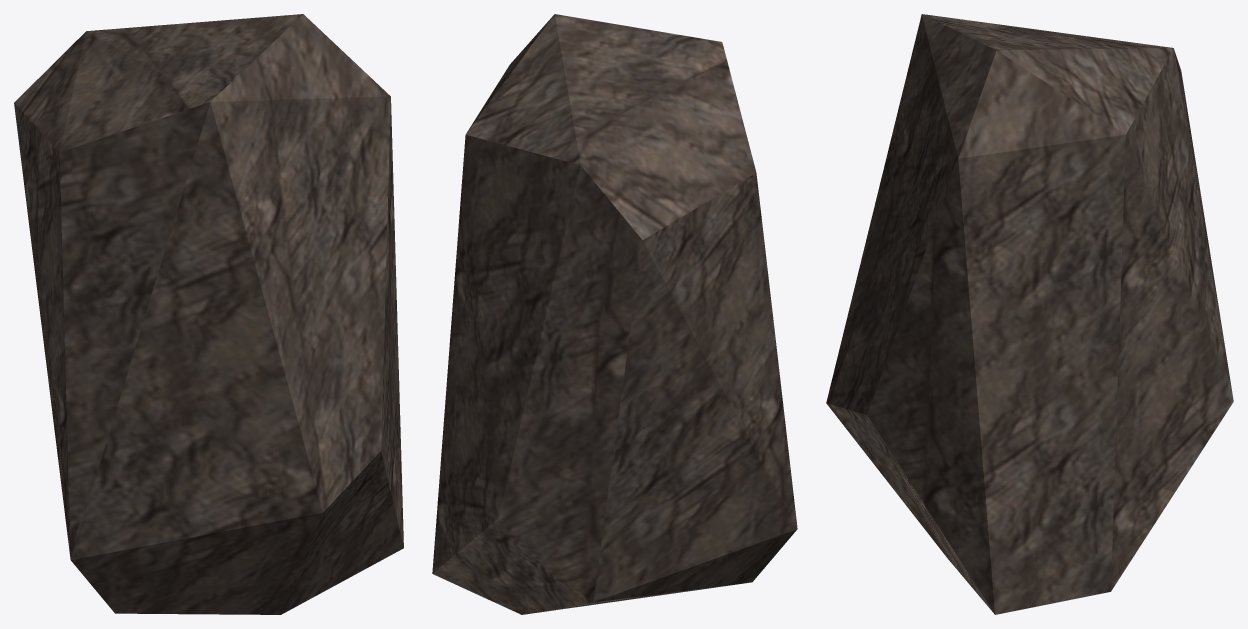
The model's file is LampLight_Rock_6.FBX.
3 views of the same model, side by side, from view 1: azimuth 30°, elevation 25°; view 2: azimuth 150°, elevation 25°; view 3: azimuth 270°, elevation 25° (orthographic). The views are drawn at different scales.
Visible parts, largest first — view 1: Bg_Rock_010; view 2: Bg_Rock_010; view 3: Bg_Rock_010.
Part boxes in pixels (x1,y1,x2,y2): Bg_Rock_010: (14,14,403,614); Bg_Rock_010: (432,14,797,614); Bg_Rock_010: (826,14,1233,614).
Size of the model in its own units: 78.38 by 126 by 86.97.
